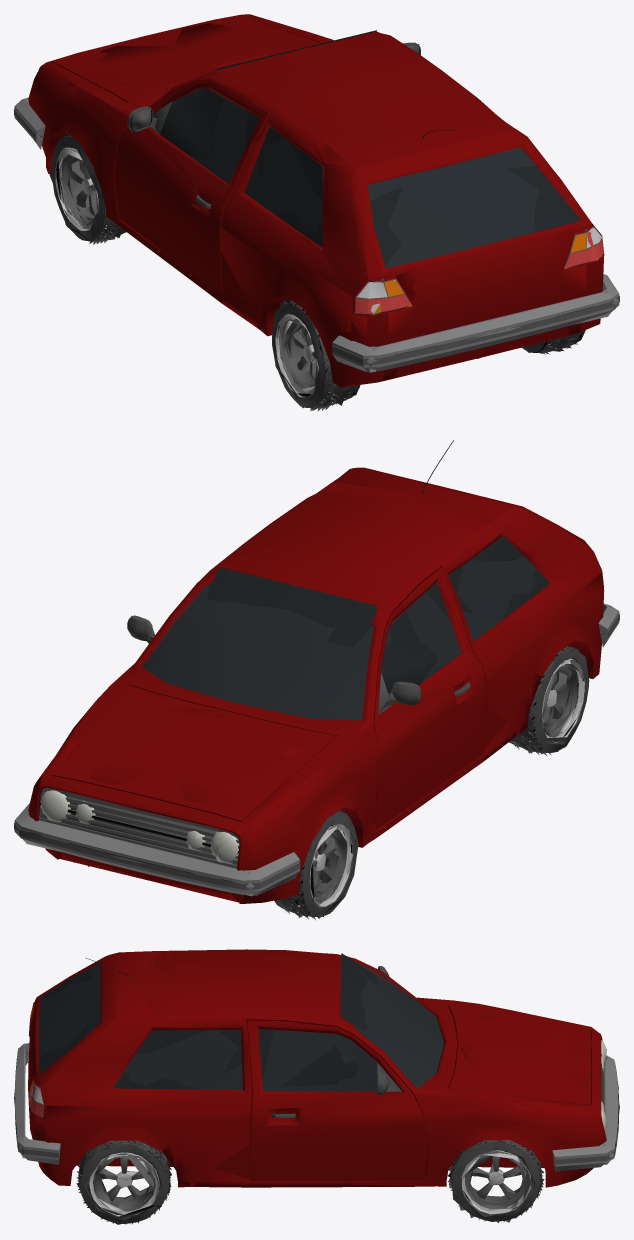
Rendered from golf2_npc.glb.
3 renders of one model, top to bottom at view 1: azimuth 30°, elevation 25°; view 2: azimuth 150°, elevation 25°; view 3: azimuth 270°, elevation 25°, orthographic. The views are drawn at different scales.
Visible parts, largest first — view 1: paint, far_body, far_paint, glass, body, wheel_RL, wheel_FL; view 2: paint, far_body, far_paint, glass, body, wheel_RL, wheel_FL; view 3: paint, far_body, far_paint, glass, body, wheel_RR, wheel_FR.
Part boxes in pixels (x1,y1,x2,y2): paint: (28,14,603,387); far_body: (14,30,619,410); far_paint: (29,14,604,387); glass: (180,52,576,268); body: (14,42,619,372); wheel_RL: (272,301,360,411); wheel_FL: (51,133,126,244); paint: (28,467,603,903); far_body: (14,536,609,917); far_paint: (34,467,604,903); glass: (142,537,537,720); body: (14,440,619,895); wheel_RL: (509,646,588,756); wheel_FL: (274,810,355,919); paint: (28,949,606,1187); far_body: (14,953,619,1224); far_paint: (29,949,602,1187); glass: (37,962,443,1091); body: (14,957,619,1171); wheel_RR: (76,1140,171,1224); wheel_FR: (448,1140,543,1223).
Size of the model in its own units: 1.82 by 1.58 by 4.
3 materials, 1 textured.
